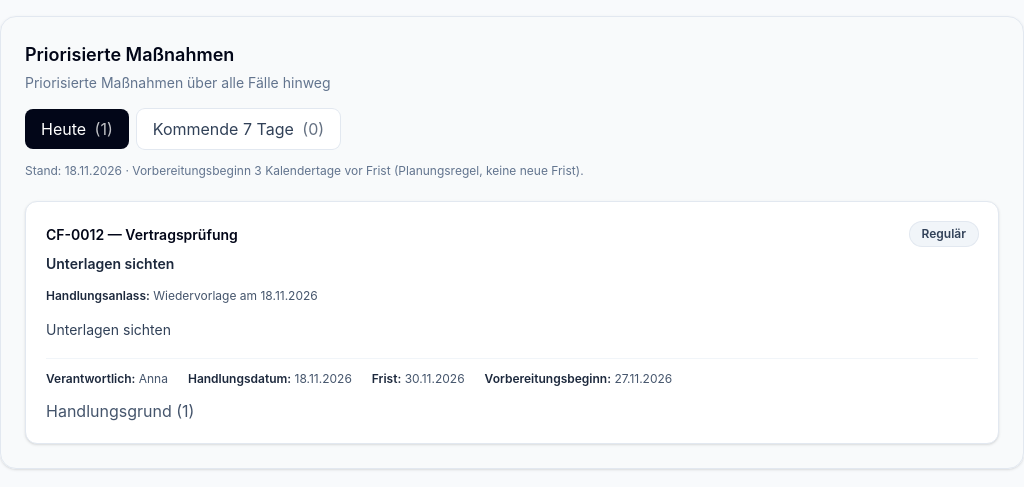
Test: dashboard worklist › explains a due Wiedervorlage independently of the November 30 deadline
This screenshot has width=1024, height=487.
Expected: the element showing "Handlungsdatum: 18.11.2026" is shown, [188, 371, 352, 387]
Expected: the text "Handlungsanlass: Wiedervorlage am 18.11.2026" is shown, [46, 288, 318, 303]
Click the button "Kommende 7 Tage (0)": (238, 129) [137, 109, 340, 149]
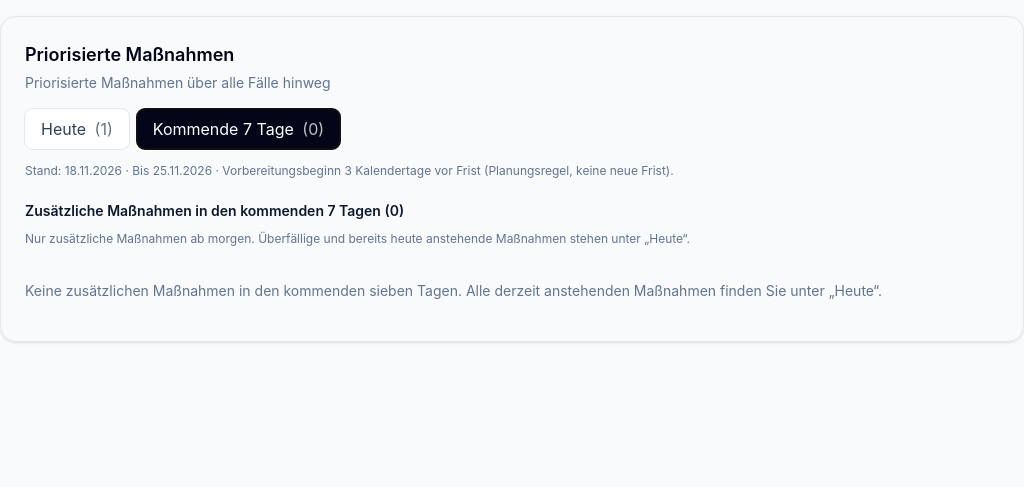
Expected: the link "CF-0012" is gone
